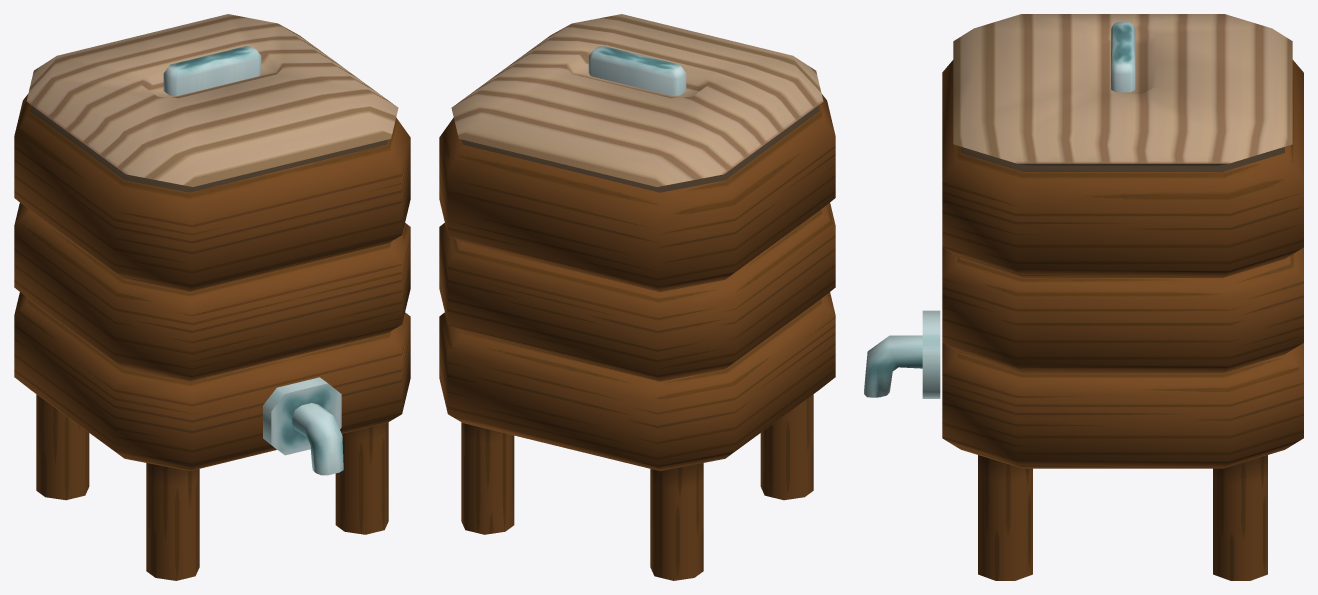
File: WormFarmHand.fbx
3 renders of one model, left to right at view 1: azimuth 30°, elevation 25°; view 2: azimuth 150°, elevation 25°; view 3: azimuth 270°, elevation 25°, orthographic. The views are drawn at different scales.
Visible parts, largest first — view 1: Beehive; view 2: Beehive; view 3: Beehive.
Part boxes in pixels (x1=…): Beehive: x1=14, y1=14, x2=410, y2=580; Beehive: x1=439, y1=14, x2=835, y2=580; Beehive: x1=864, y1=14, x2=1303, y2=580.
Bounding box in the file's own units: 0.5362 × 0.7742 × 0.6472.
1 material, 1 textured.
